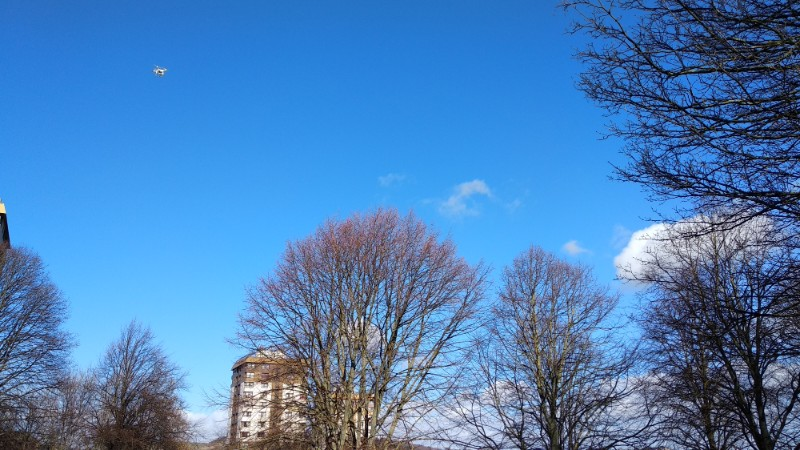drone: (154, 64, 167, 78)
